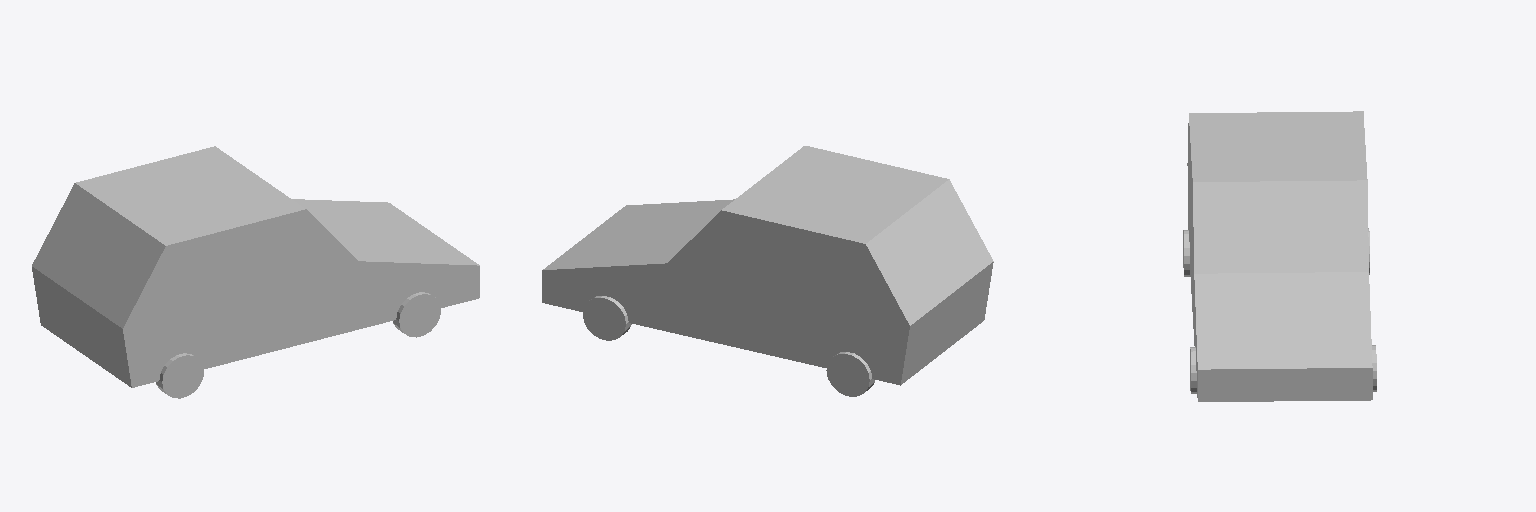
File: car_2.obj
The picture shows the model from 3 angles: view 1: azimuth 30°, elevation 25°; view 2: azimuth 150°, elevation 25°; view 3: azimuth 270°, elevation 25°; orthographic projection.
Visible parts, largest first — view 1: CAR_02; view 2: CAR_02; view 3: CAR_02.
Part boxes in pixels (x1,y1,x2,y2): CAR_02: (32,146,479,398); CAR_02: (542,146,993,396); CAR_02: (1183,111,1376,401).
Bounding box in the file's own units: 1.84 × 0.7408 × 0.8439.